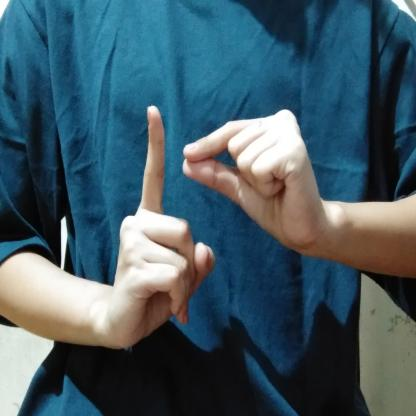son: (104, 98, 351, 355)
